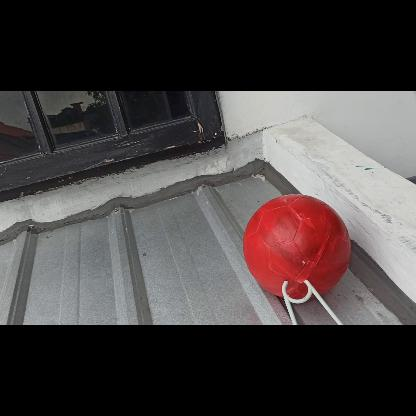red_ball: (244, 192, 350, 298)
